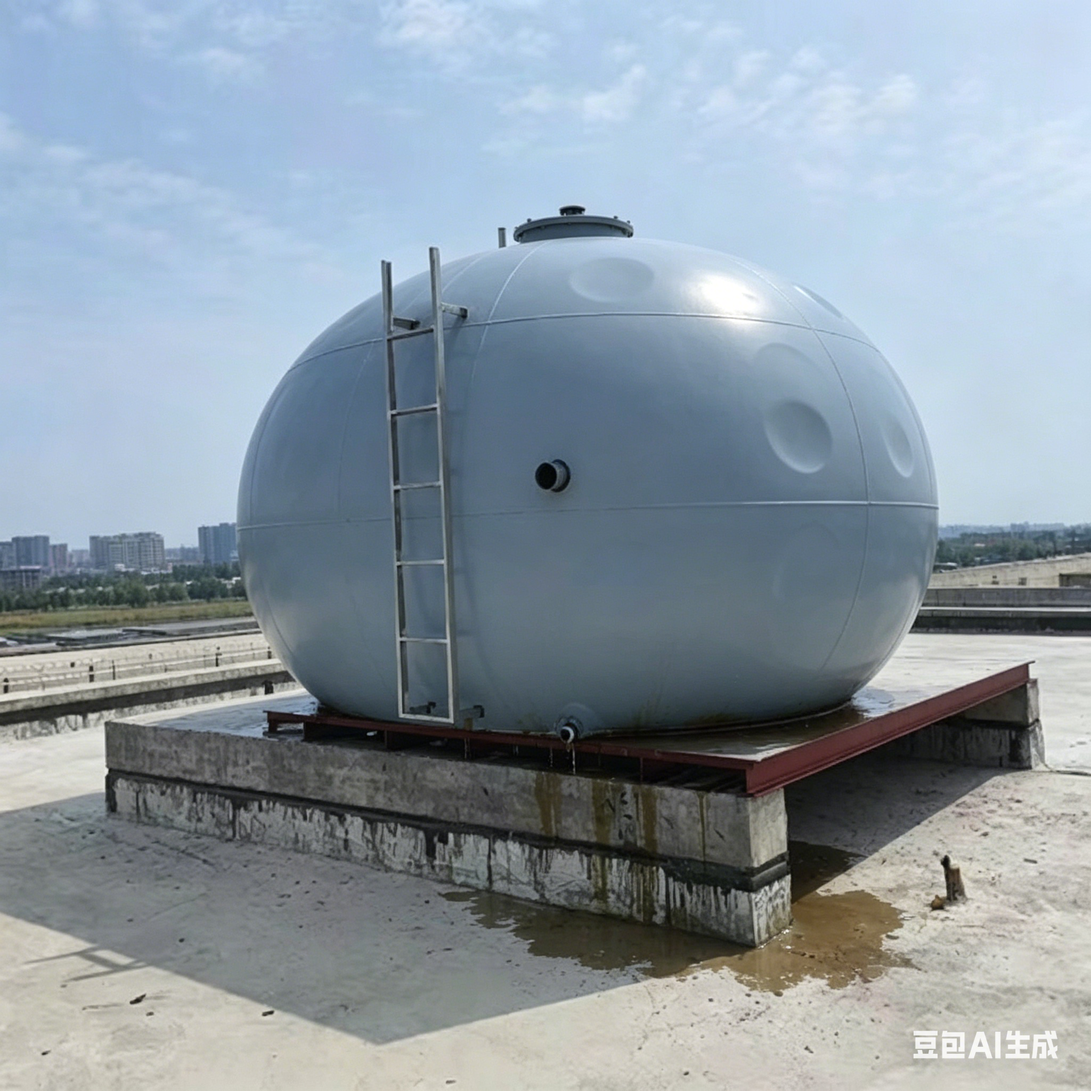Leakage: (485, 900, 913, 997)
